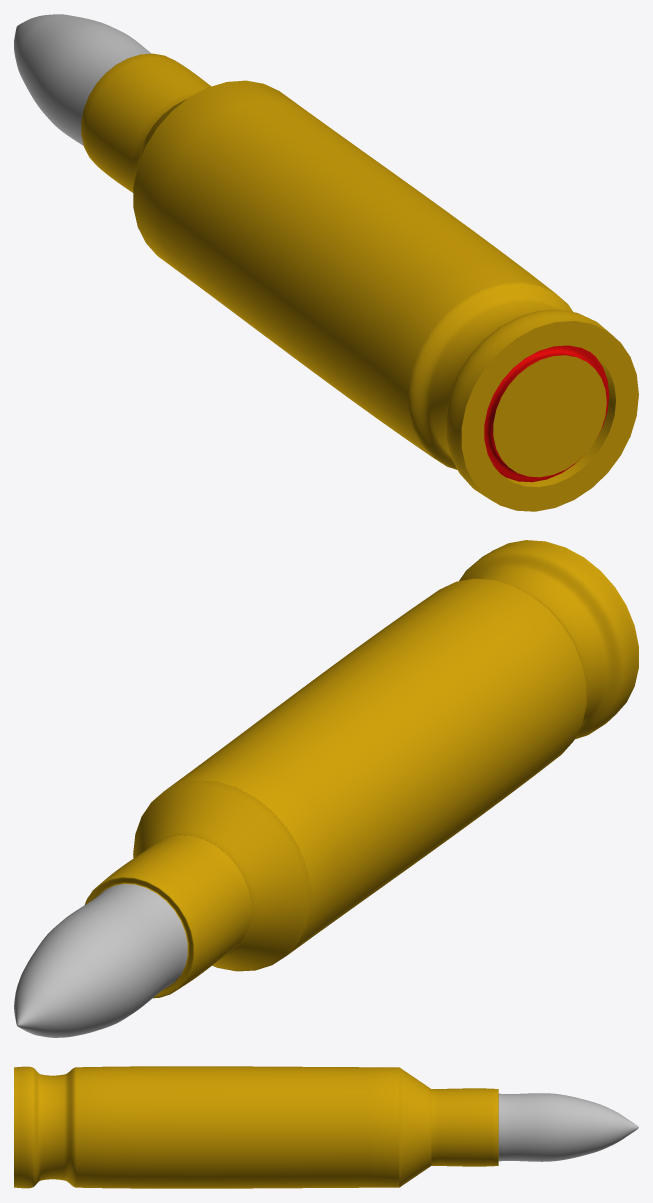
The model's file is bala.fbx.
3 views of the same model, one above another, from view 1: azimuth 30°, elevation 25°; view 2: azimuth 150°, elevation 25°; view 3: azimuth 270°, elevation 25° (orthographic). The views are drawn at different scales.
Parts seen in each view (by area): view 1: Loft_2, Cap_1, Cap_2, Loft_2_2, Loft, Loft_1; view 2: Loft_2, Loft_2_2; view 3: Loft_2, Loft_2_2.
Part boxes in pixels (bbox=[...]): Loft_2: bbox=[81, 53, 613, 501]; Cap_1: bbox=[461, 321, 638, 511]; Cap_2: bbox=[493, 355, 606, 477]; Loft_2_2: bbox=[14, 14, 150, 145]; Loft: bbox=[484, 345, 609, 482]; Loft_1: bbox=[501, 352, 615, 487]; Loft_2: bbox=[85, 540, 638, 998]; Loft_2_2: bbox=[14, 884, 187, 1037]; Loft_2: bbox=[14, 1066, 498, 1188]; Loft_2_2: bbox=[498, 1093, 638, 1161].
Size of the model in its own units: 405 by 406 by 2074.
